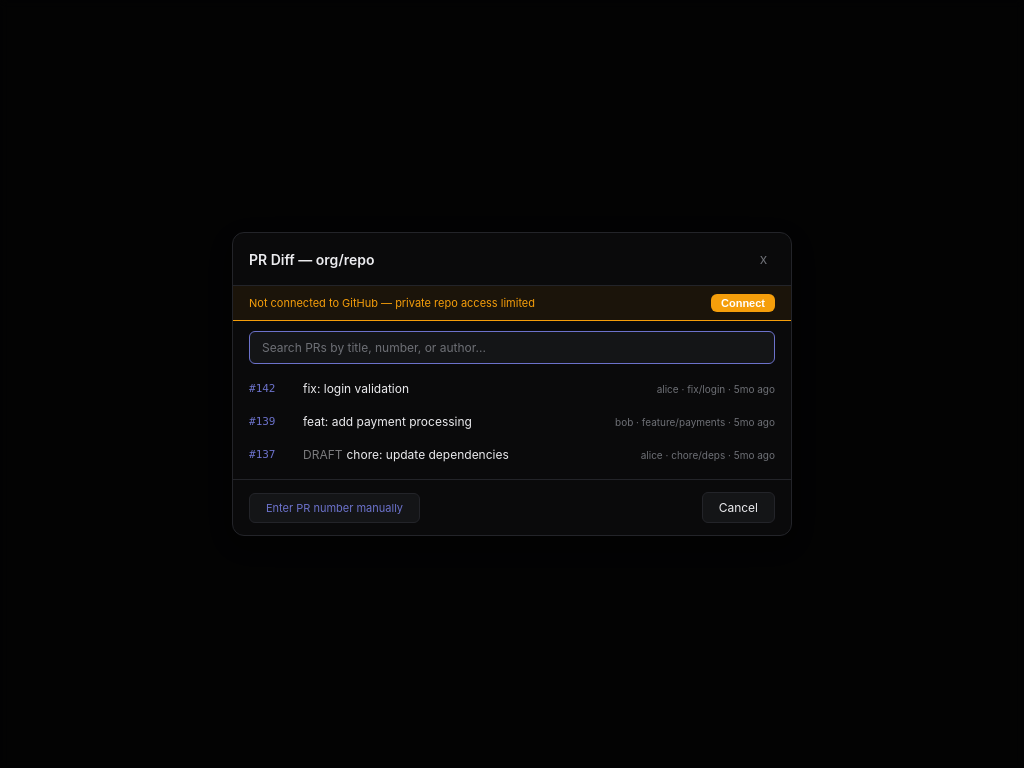
Test case: PrPicker › validates non-numeric input in manual mode
The image size is (1024, 768).
Click the button "Enter PR number manually" at (334, 508), box 249,492 -> 420,522
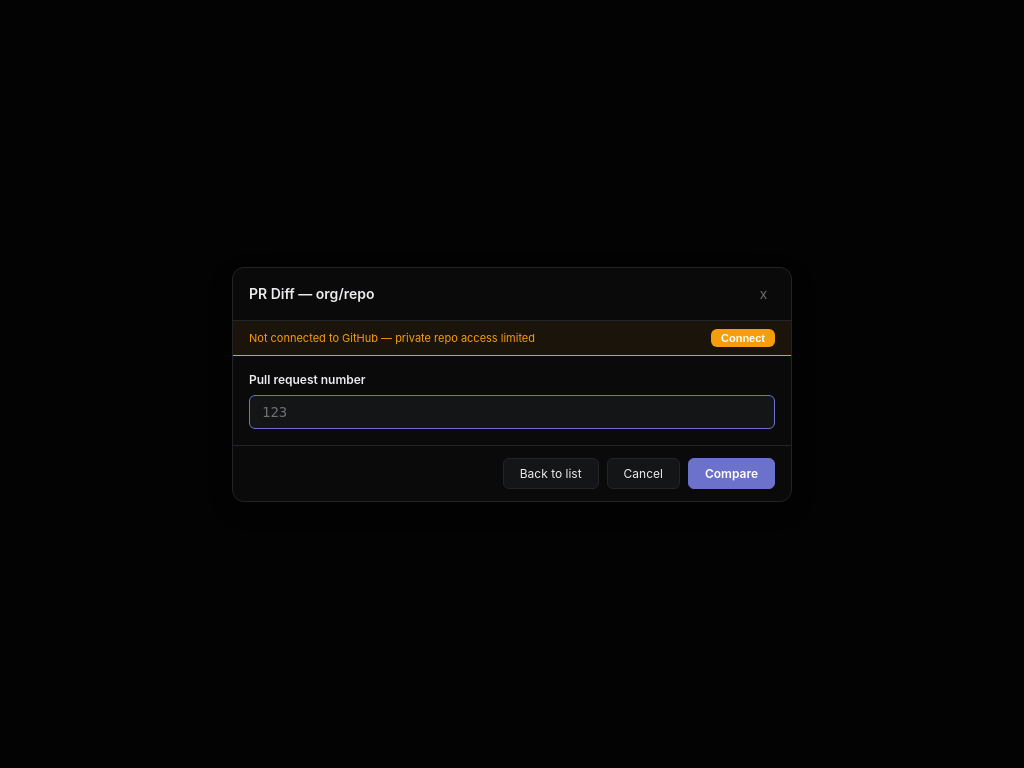
Type "abc" into the field with placeholder "123" at (512, 412), box 249,394 -> 775,428
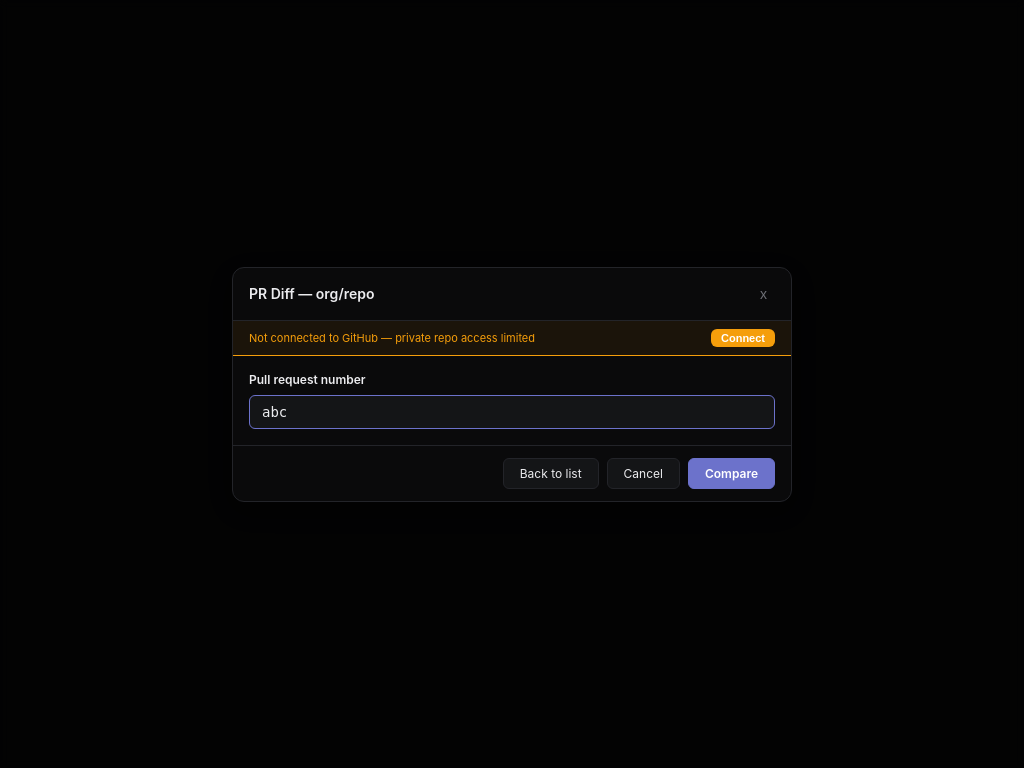
Click the button "Compare" at (732, 473), box 688,458 -> 775,488
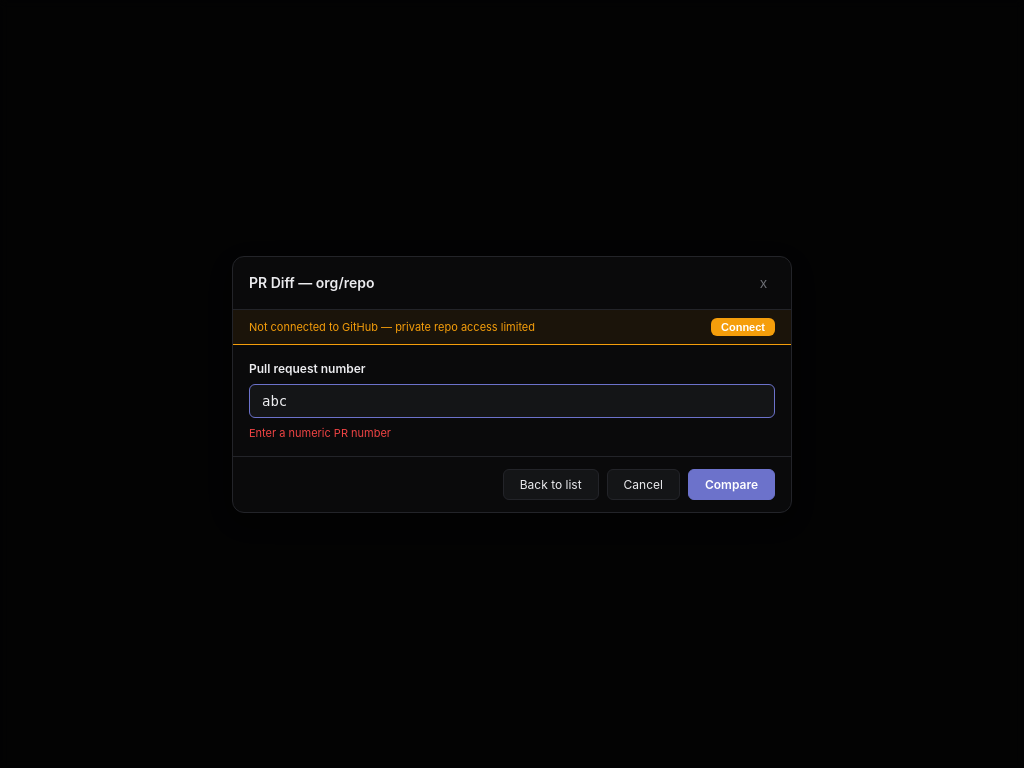
Result: the text "Enter a numeric PR number" is shown at 249,426 -> 391,440
